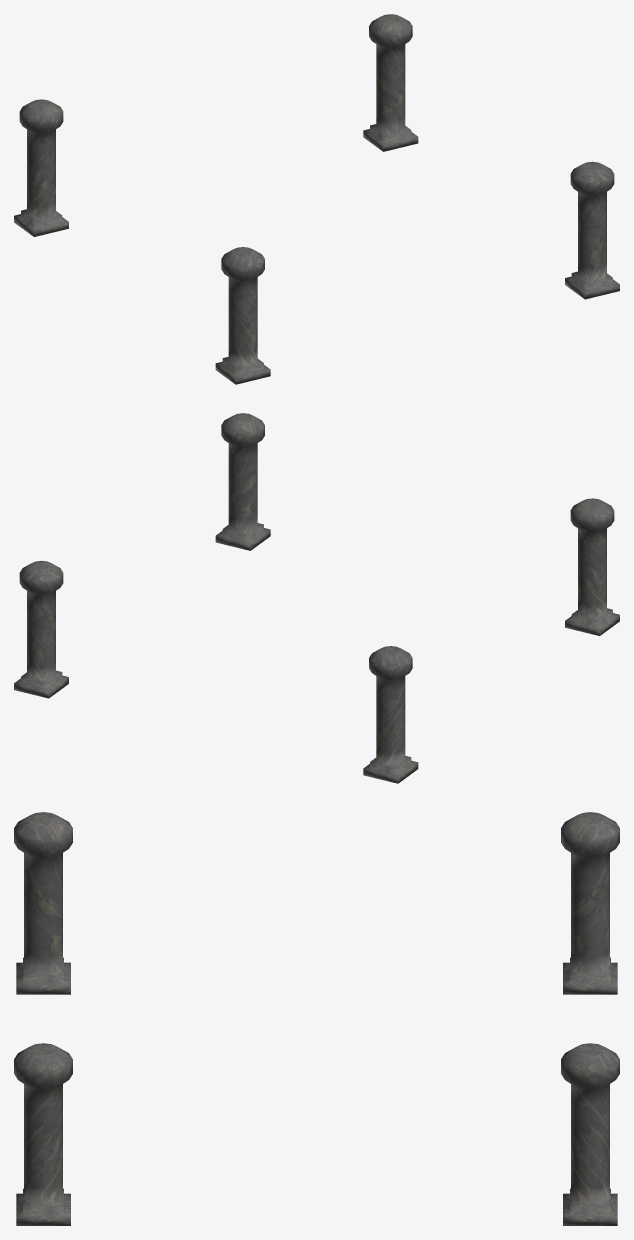
Rendered from Tower.fbx.
The picture shows the model from 3 angles, top to bottom: view 1: azimuth 30°, elevation 25°; view 2: azimuth 150°, elevation 25°; view 3: azimuth 270°, elevation 25°; orthographic projection. The views are drawn at different scales.
Visible parts, largest first — view 1: Final TOwer; view 2: Final TOwer; view 3: Final TOwer.
Part boxes in pixels (left/top/right/bottom): Final TOwer: left=14, top=14, right=619, bottom=384; Final TOwer: left=14, top=413, right=619, bottom=783; Final TOwer: left=14, top=812, right=619, bottom=1225.
Size of the model in its own units: 5999 by 1796 by 5999.
Materials: 1 (1 with a texture image).
